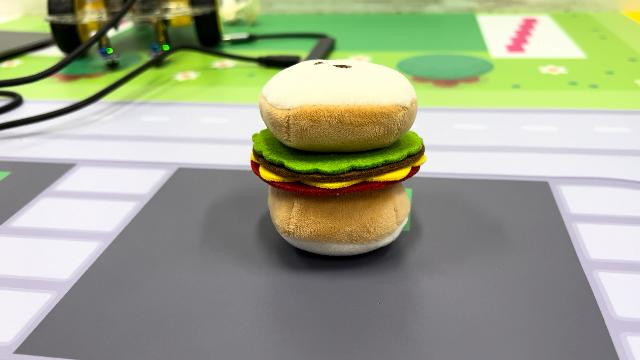sandwich: (247, 56, 428, 258)
